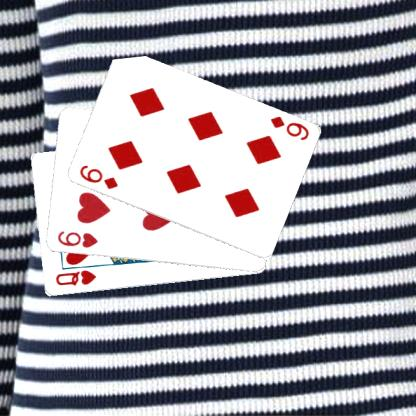6D: (76, 162, 119, 191), (267, 113, 310, 142)
6H: (54, 228, 99, 250)
QH: (52, 267, 97, 288)
